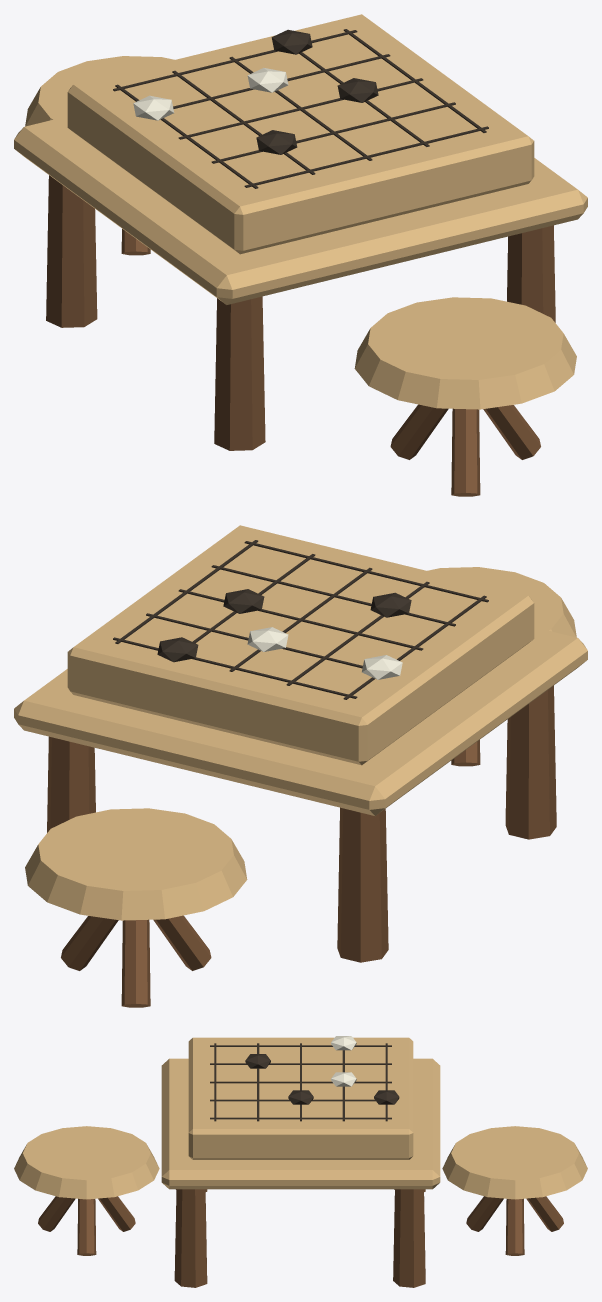
Rendered from CC_Baduk.fbx.
3 renders of one model, top to bottom at view 1: azimuth 30°, elevation 25°; view 2: azimuth 150°, elevation 25°; view 3: azimuth 270°, elevation 25°, orthographic. The views are drawn at different scales.
Visible parts, largest first — view 1: Baduk block, Top.006, Stool seat.005, Leg.076, Leg.077, Leg.078, Stool seat.006, Stool leg.017, Stool leg.015, Stool leg.016, Line.011, Go stone.003 (+9 smaller); view 2: Baduk block, Top.006, Stool seat.006, Leg.077, Leg.076, Leg.079, Stool seat.005, Stool leg.019, Stool leg.018, Stool leg.020, Line.011, Go stone (+8 smaller); view 3: Baduk block, Top.006, Stool seat.005, Stool seat.006, Leg.079, Leg.078, Stool leg.015, Stool leg.018, Stool leg.017, Stool leg.019, Stool leg.016, Stool leg.020 (+3 smaller).
Boxes of the visible parts, left/top/right/bottom form: Baduk block: left=67, top=14, right=534, bottom=254; Top.006: left=14, top=116, right=587, bottom=304; Stool seat.005: left=354, top=297, right=576, bottom=409; Leg.076: left=214, top=296, right=265, bottom=450; Leg.077: left=46, top=175, right=97, bottom=327; Leg.078: left=507, top=225, right=555, bottom=322; Stool seat.006: left=25, top=56, right=174, bottom=126; Stool leg.017: left=451, top=408, right=480, bottom=496; Stool leg.015: left=483, top=405, right=540, bottom=459; Stool leg.016: left=390, top=404, right=448, bottom=459; Line.011: left=244, top=126, right=488, bottom=187; Go stone.003: left=133, top=95, right=174, bottom=120; Baduk block: left=67, top=525, right=534, bottom=765; Top.006: left=14, top=627, right=587, bottom=815; Stool seat.006: left=25, top=808, right=247, bottom=920; Leg.077: left=337, top=807, right=388, bottom=962; Leg.076: left=505, top=685, right=556, bottom=839; Leg.079: left=47, top=736, right=95, bottom=832; Stool seat.005: left=427, top=567, right=576, bottom=637; Stool leg.019: left=121, top=919, right=150, bottom=1007; Stool leg.018: left=61, top=916, right=118, bottom=970; Stool leg.020: left=153, top=915, right=211, bottom=970; Line.011: left=244, top=541, right=488, bottom=602; Go stone: left=370, top=592, right=411, bottom=617; Baduk block: left=188, top=1037, right=413, bottom=1159; Top.006: left=161, top=1058, right=440, bottom=1189; Stool seat.005: left=14, top=1126, right=159, bottom=1199; Stool seat.006: left=442, top=1126, right=587, bottom=1199; Leg.079: left=393, top=1189, right=425, bottom=1287; Leg.078: left=174, top=1189, right=207, bottom=1287; Stool leg.015: left=77, top=1198, right=96, bottom=1255; Stool leg.018: left=505, top=1198, right=524, bottom=1255; Stool leg.017: left=38, top=1196, right=75, bottom=1231; Stool leg.019: left=526, top=1196, right=563, bottom=1231; Stool leg.016: left=98, top=1196, right=135, bottom=1231; Stool leg.020: left=466, top=1196, right=503, bottom=1231.
Size of the model in its own units: 1.3 by 0.852 by 2.68.
